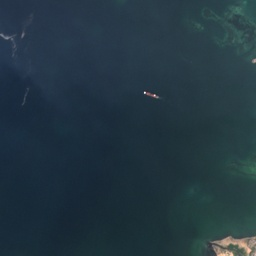Marine Debris: (0, 33, 16, 51), (21, 86, 31, 107), (21, 32, 25, 38)
